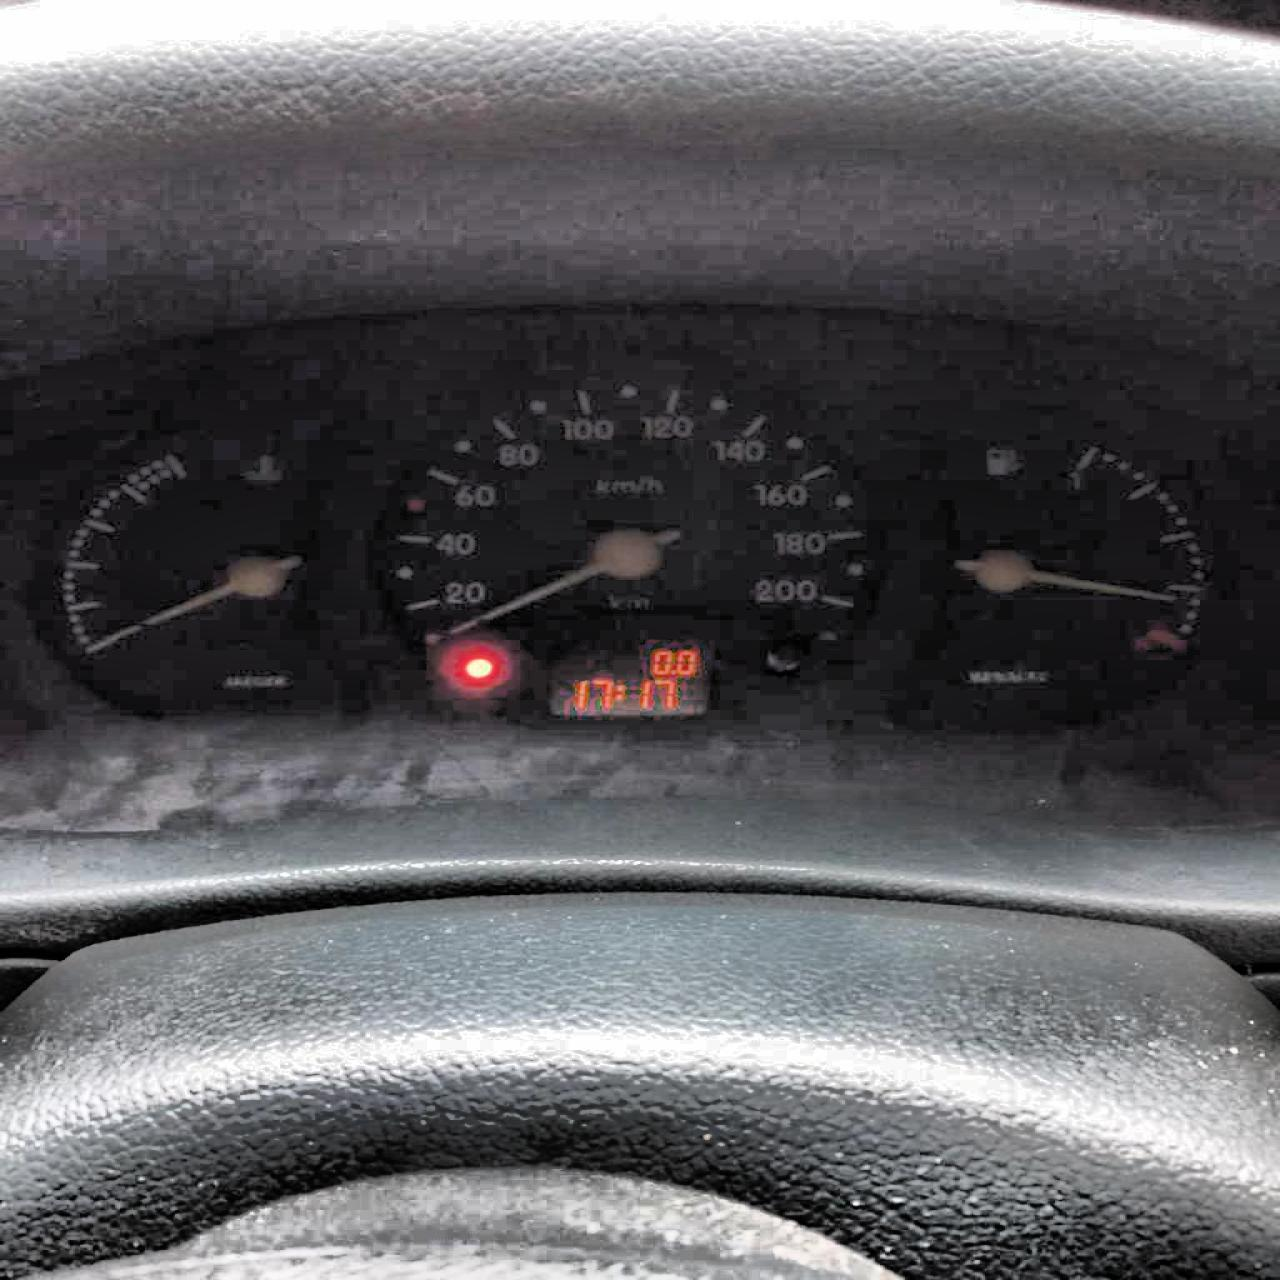-: (670, 667, 676, 675)
0: (676, 648, 695, 674), (652, 649, 670, 675)
1: (573, 678, 585, 710), (640, 678, 651, 708)
7: (588, 676, 612, 709), (655, 676, 676, 708)
X: (614, 682, 624, 701)
odometer: (539, 632, 713, 717)
